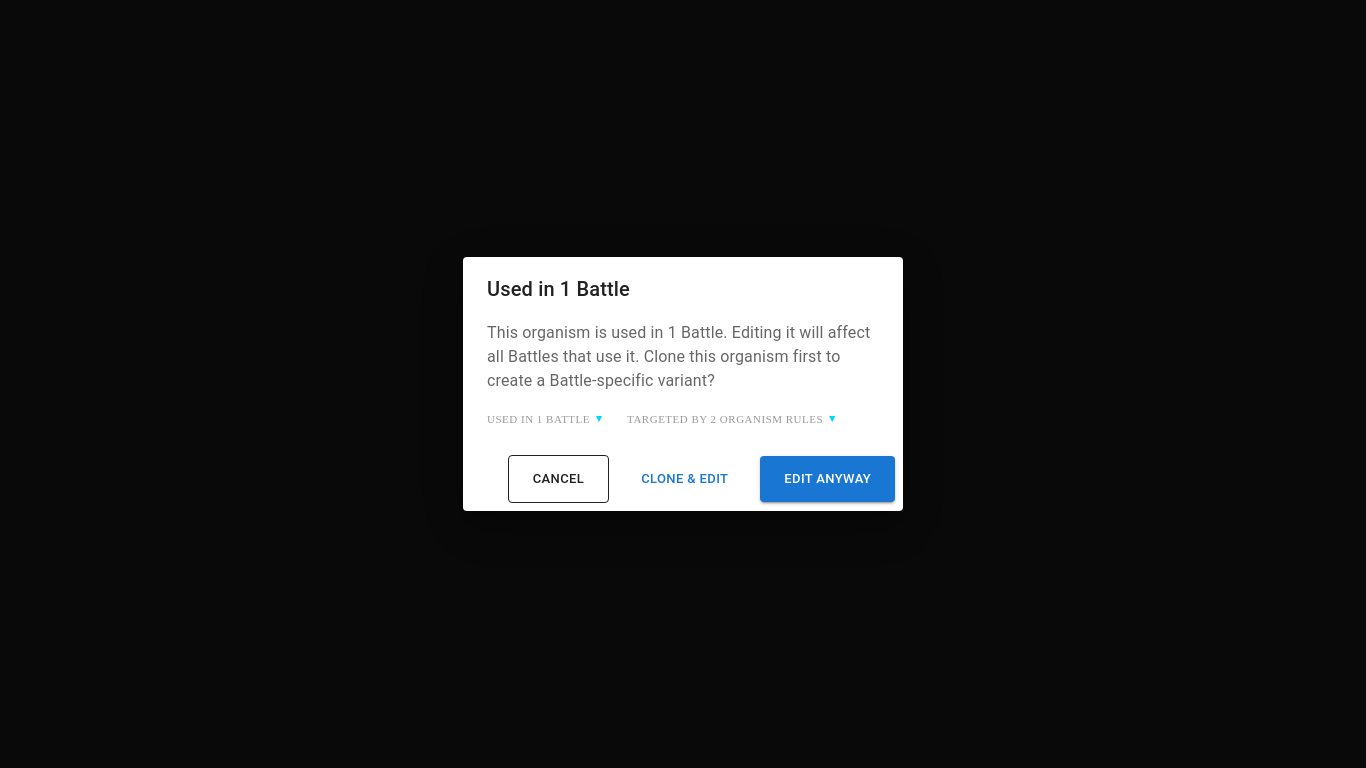
OrganismInUseDialog — the expandable count (Story 4.24, AC6, FR-1.7, M7) › renders the rule disclosure only when M > 0, with the referencing names
Click the button "Targeted by 2 organism rules ▾": {"x": 731, "y": 419} [627,412,835,425]
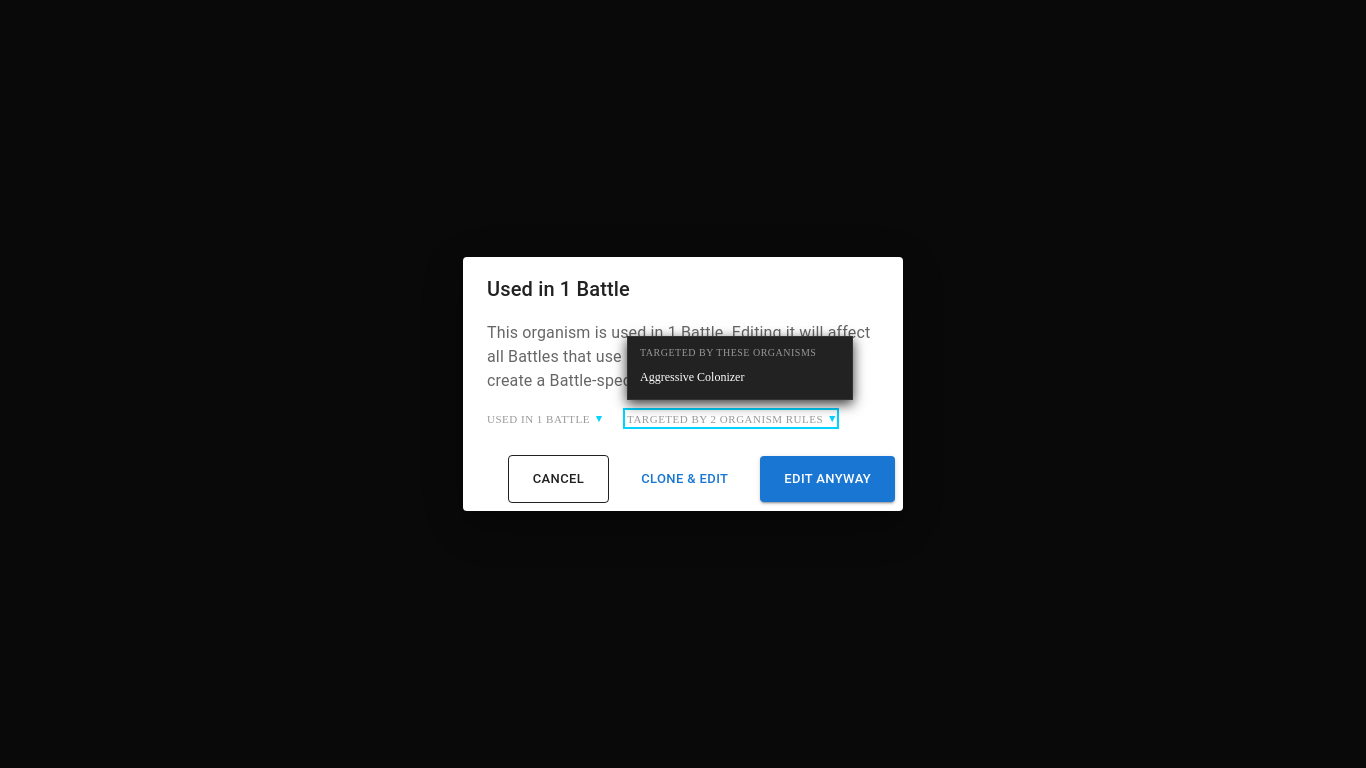
Expected: the list item "Aggressive Colonizer" is shown, [640,370,744,384]
